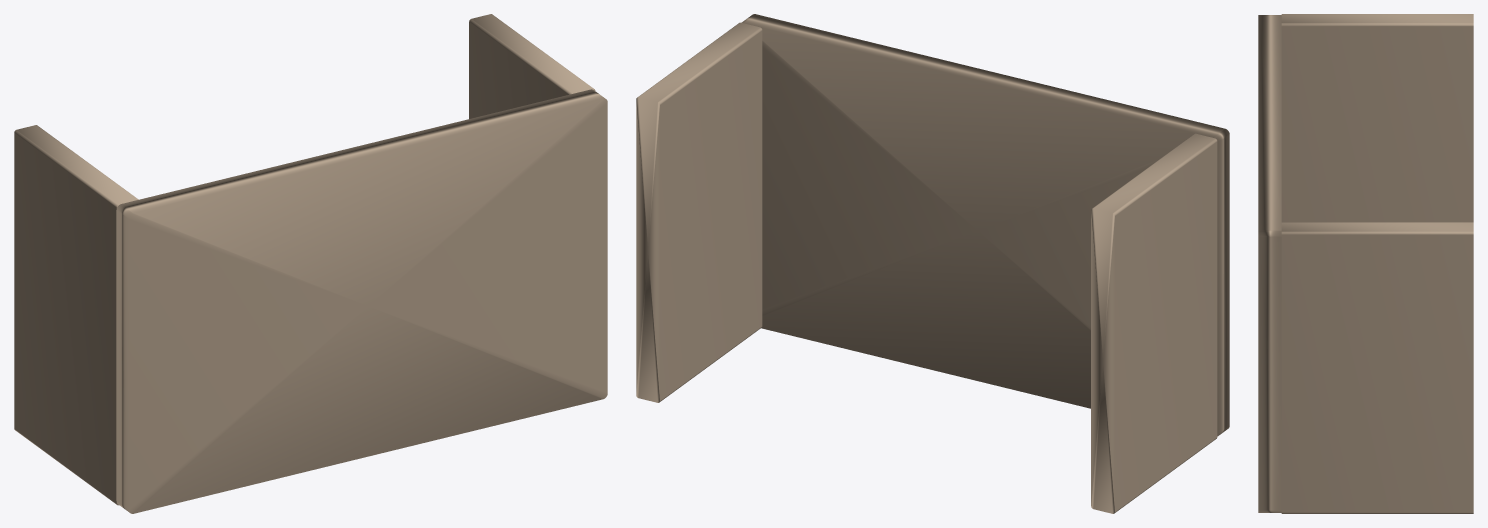
Rendered from shelf.glb.
The picture shows the model from 3 angles, left to right: view 1: azimuth 30°, elevation 25°; view 2: azimuth 150°, elevation 25°; view 3: azimuth 270°, elevation 25°; orthographic projection. The views are drawn at different scales.
Parts seen in each view (by area): view 1: shelf, leg_-1, leg_1; view 2: shelf, leg_-1, leg_1; view 3: leg_1, leg_-1, shelf.
Part boxes in pixels (<box>): shelf: <box>116,89,607,513</box>; leg_-1: <box>14,125,138,505</box>; leg_1: <box>469,14,595,118</box>; shelf: <box>741,14,1229,436</box>; leg_-1: <box>1091,133,1217,513</box>; leg_1: <box>636,22,762,402</box>; leg_1: <box>1281,222,1473,513</box>; leg_-1: <box>1281,14,1473,222</box>; shelf: <box>1258,15,1281,512</box>.
Size of the model in its own units: 0.2 by 0.12 by 0.083.
